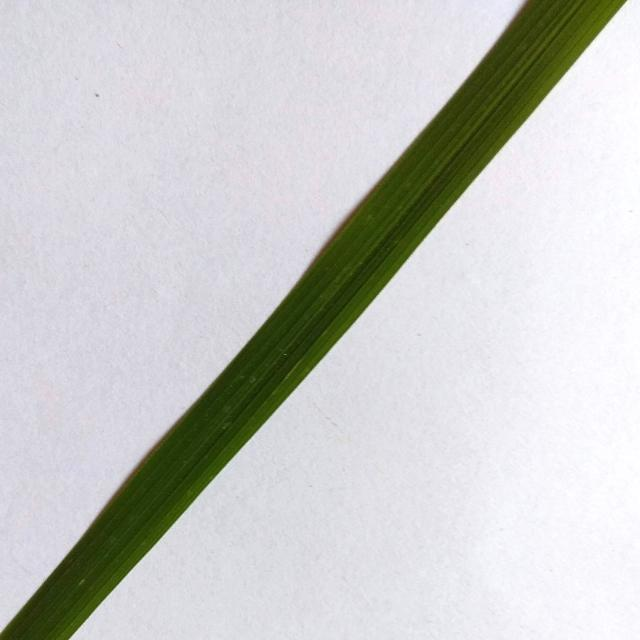Rice_Healthy: (0, 0, 625, 640)
